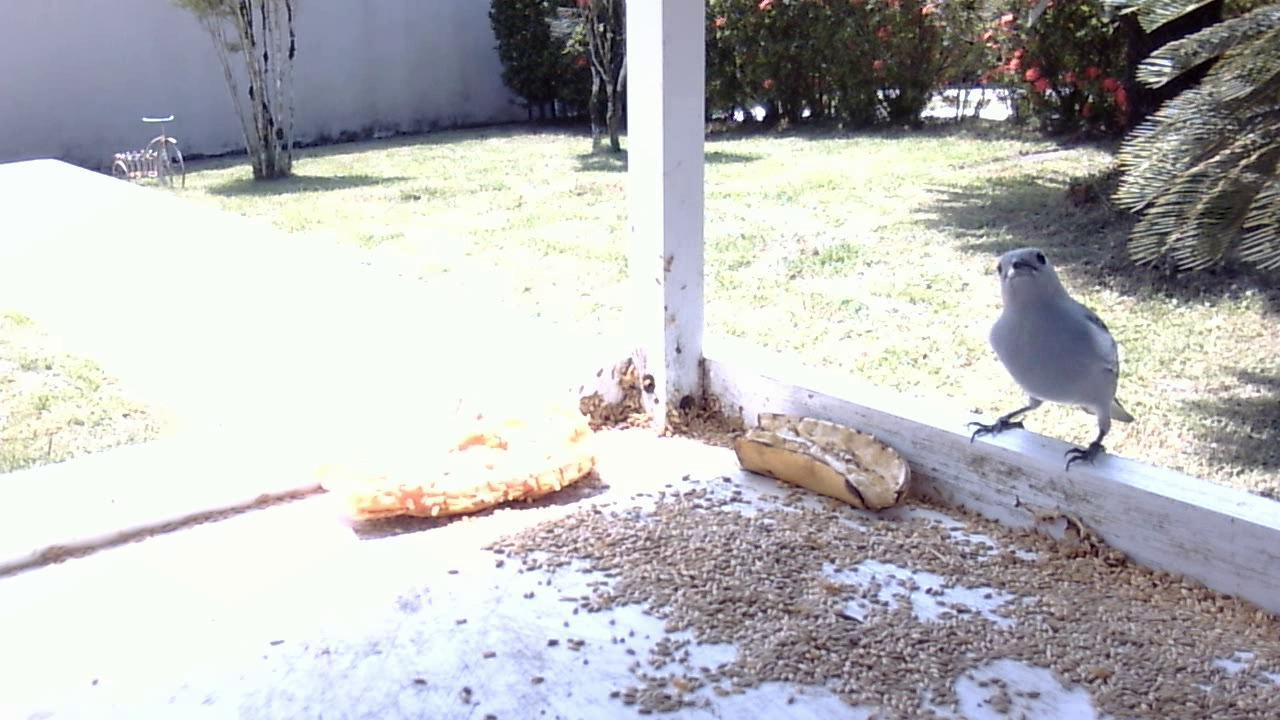sanhaco_da_amazonia: (960, 241, 1136, 474)
